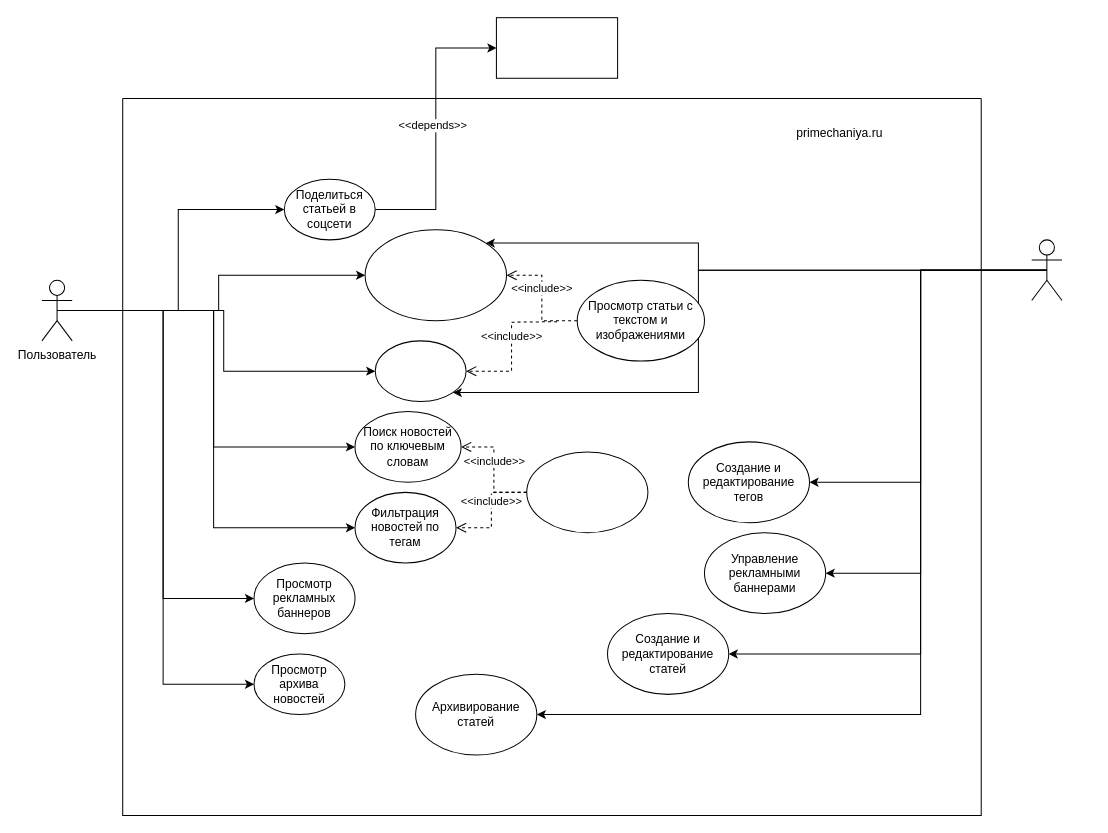
Some shapes in this 1108 by 833 pixel diagram are drawn without their labels. Each missing label, with the centre of its shape:
VK: the point at 556,47
Администратор: the point at 1046,269
Просмотр главной страницы с последними новостями: the point at 435,275
Просмотр популярных новостей: the point at 420,370
Просмотр списка новостей по категориям: the point at 587,492
